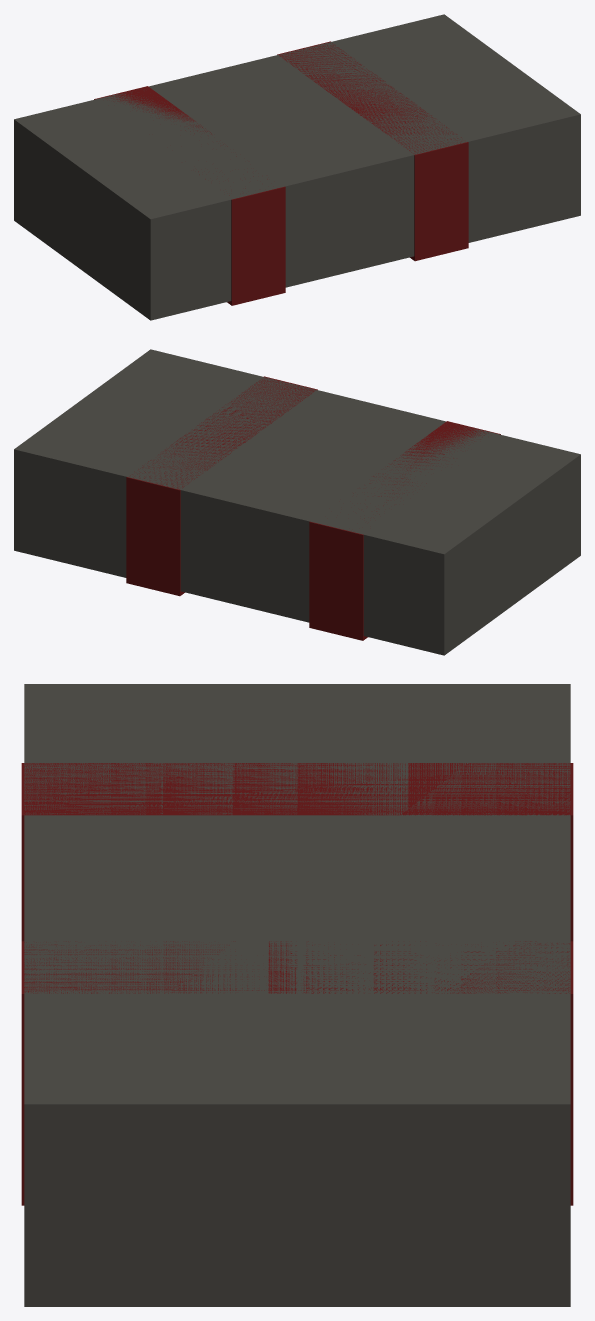
Rendered from barricade_concrete_quarantine.obj.
3 views of the same model, one above another, from view 1: azimuth 30°, elevation 25°; view 2: azimuth 150°, elevation 25°; view 3: azimuth 270°, elevation 25° (orthographic). The views are drawn at different scales.
Size of the model in its own units: 2 by 0.47 by 1.11.
